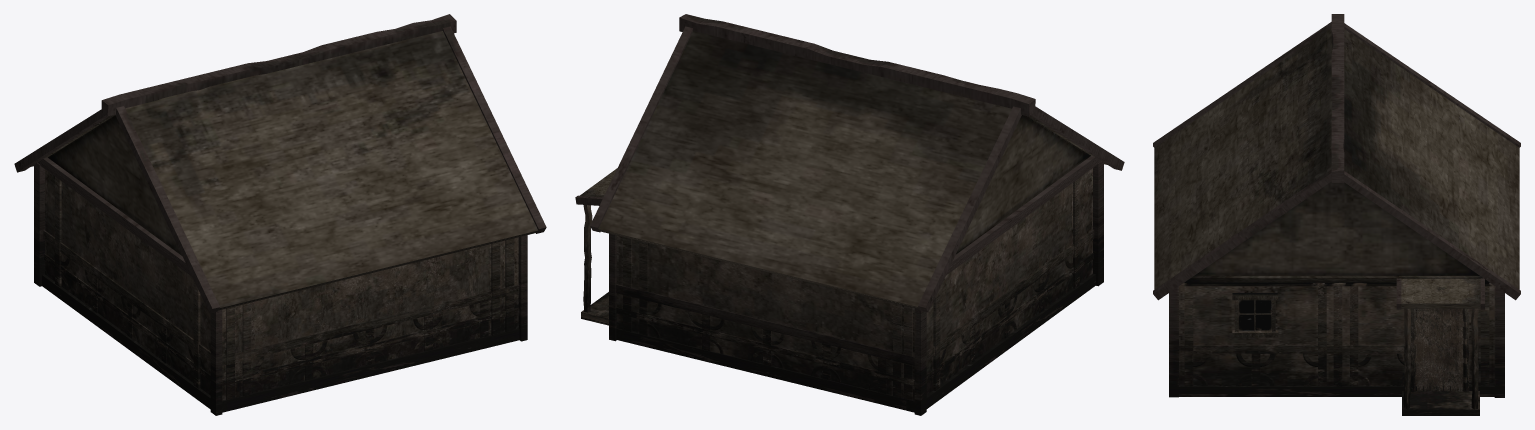
Rendered from House_05.fbx.
3 views of the same model, side by side, from view 1: azimuth 30°, elevation 25°; view 2: azimuth 150°, elevation 25°; view 3: azimuth 270°, elevation 25° (orthographic). The views are drawn at different scales.
Visible parts, largest first — view 1: pCube83; view 2: pCube83; view 3: pCube83.
Part boxes in pixels (x1,y1,x2,y2): pCube83: (14, 14, 546, 415); pCube83: (575, 14, 1124, 415); pCube83: (1153, 14, 1520, 415).
Size of the model in its own units: 20 by 12.89 by 18.28.
